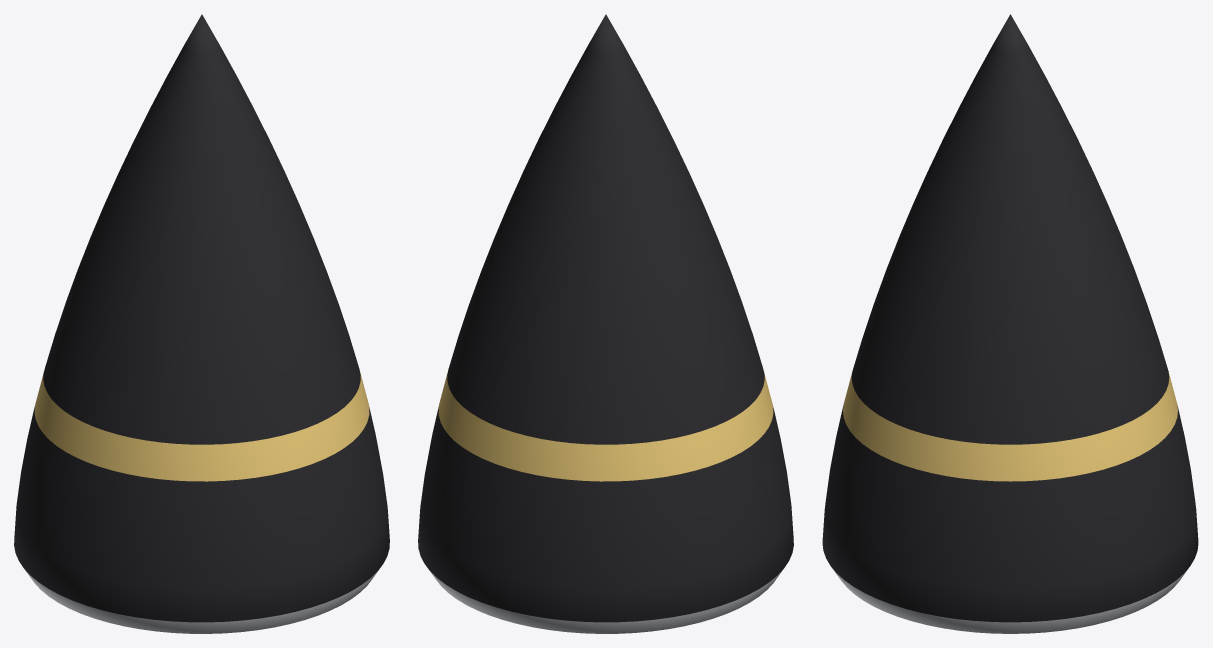
File: warhead_m.glb
The picture shows the model from 3 angles, left to right: view 1: azimuth 30°, elevation 25°; view 2: azimuth 150°, elevation 25°; view 3: azimuth 270°, elevation 25°; orthographic projection.
Visible parts, largest first — view 1: warhead_m; view 2: warhead_m; view 3: warhead_m.
Boxes of the visible parts, x1,y1,x2,y2 form: warhead_m: (14, 14, 389, 633); warhead_m: (418, 14, 793, 633); warhead_m: (822, 14, 1198, 633).
Size of the model in its own units: 1.25 by 2 by 1.25.
